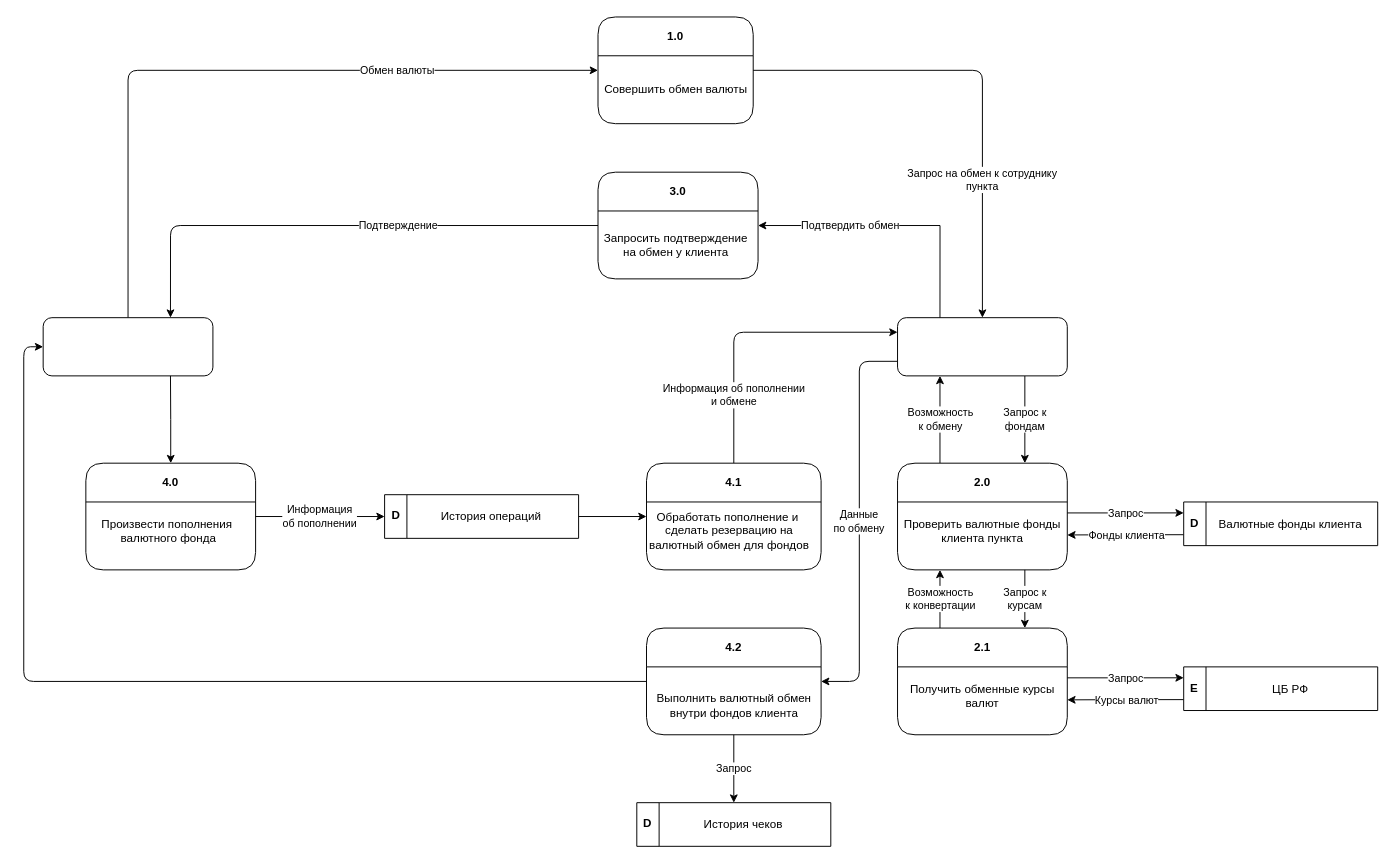
This 1395x863 diagram has some shape labels left out. The centre of each missing label's shape, as x and y in pixels:
"Клиент обменного пункта" belongs at (127,346).
"Сотрудник обменного пункта" belongs at (982,346).
